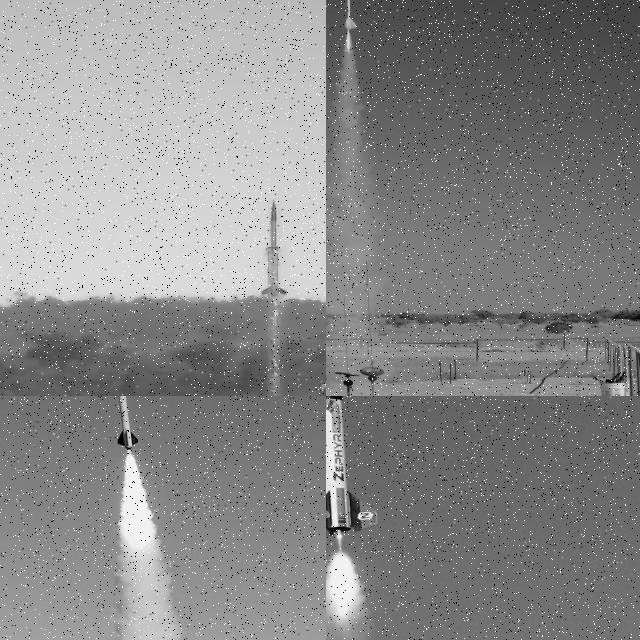Rocket: (326, 396, 379, 537), (261, 199, 287, 297), (111, 396, 139, 448), (339, 0, 357, 30)
